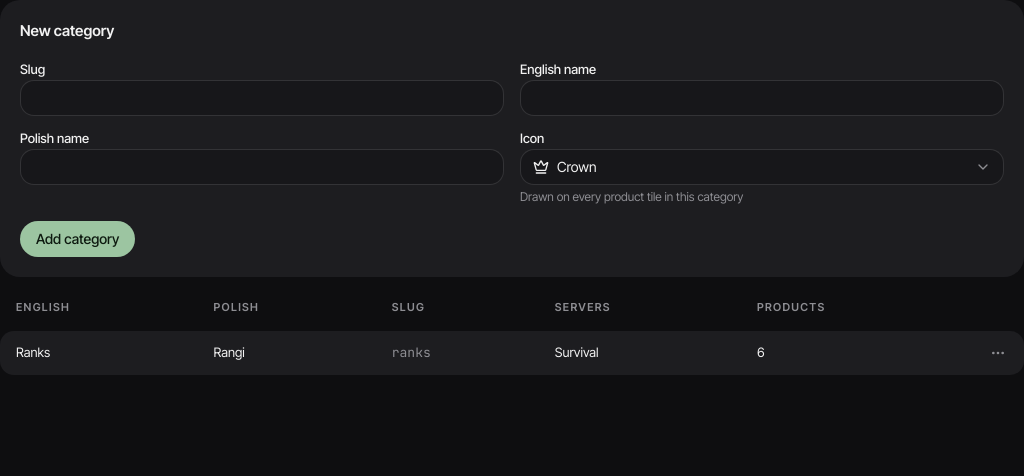
Scenario: CategoriesTable › renames from the row menu
This screenshot has width=1024, height=476.
Click the button named "Actions for Ranks" at (998, 353), box [980,335,1016,371]
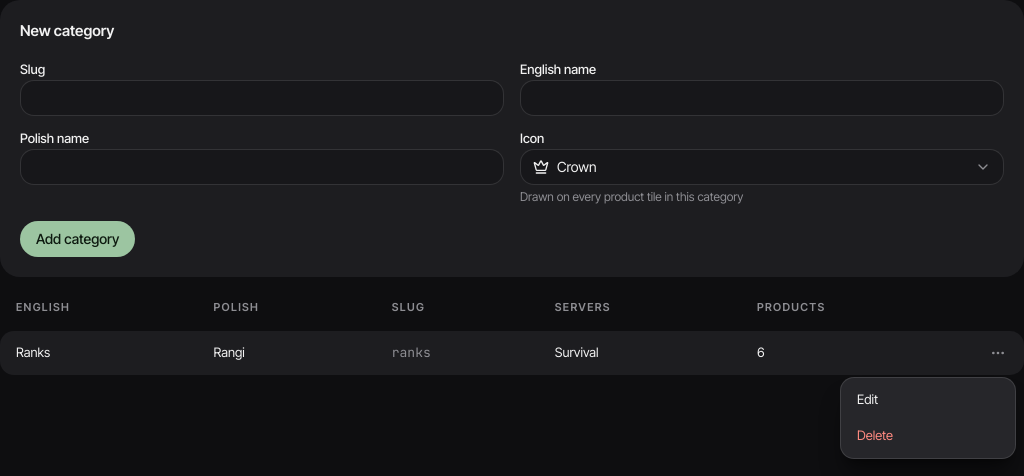
Click the menu item "Edit" at (868, 399), box [857,391,878,407]
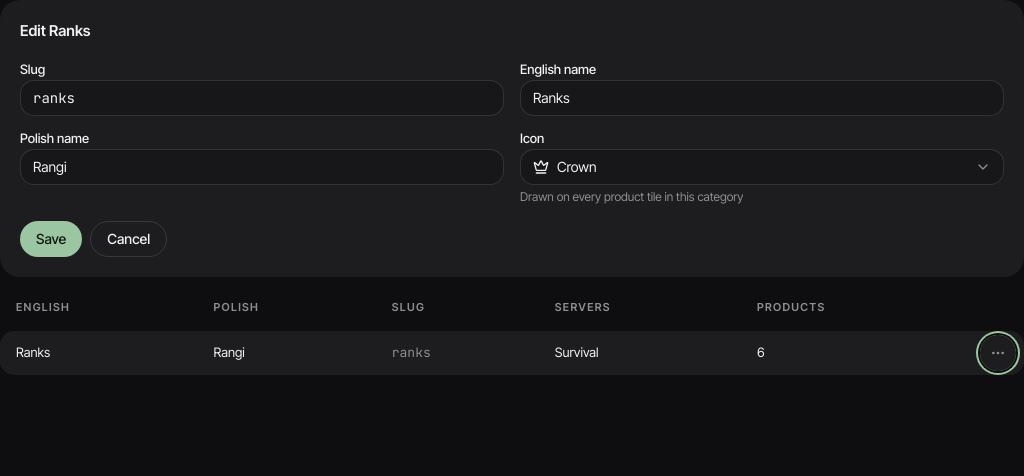
Expected: the element "Edit Ranks" is shown, [0,0,1023,276]
Expected: the field showing "Rangi" is shown, [20,148,504,184]
